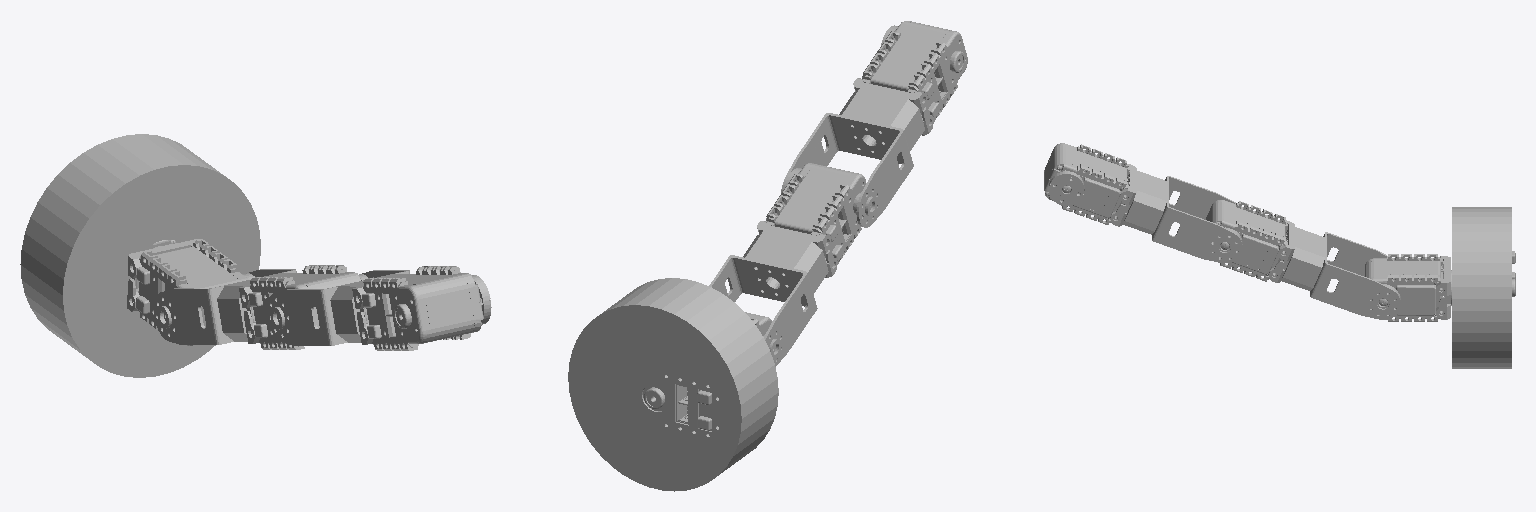
URDF robot description (allsubs1):
<?xml version="1.0" encoding="utf-8"?>
<!-- This URDF was automatically created by SolidWorks to URDF Exporter! Originally created by Stephen Brawner (brawner@gmail.com) 
     Commit Version: 1.6.0-4-g7f85cfe  Build Version: 1.6.7995.38578
     For more information, please see http://wiki.ros.org/sw_urdf_exporter -->
<robot
  name="allsubs1">
  <link
    name="b1">
    <inertial>
      <origin
        xyz="0.69514 -1.2988 0.90674"
        rpy="0 0 0" />
      <mass
        value="0.06306" />
      <inertia
        ixx="1.5289E-05"
        ixy="-3.1071E-07"
        ixz="-2.394E-08"
        iyy="3.2674E-05"
        iyz="-7.0995E-09"
        izz="3.4483E-05" />
    </inertial>
    <visual>
      <origin
        xyz="0 0 0"
        rpy="0 0 0" />
      <geometry>
        <mesh
          filename="package://allsubs1/meshes/b1.STL" />
      </geometry>
      <material
        name="">
        <color
          rgba="0.75294 0.75294 0.75294 1" />
      </material>
    </visual>
    <collision>
      <origin
        xyz="0 0 0"
        rpy="0 0 0" />
      <geometry>
        <mesh
          filename="package://allsubs1/meshes/b1.STL" />
      </geometry>
    </collision>
  </link>
  <link
    name="j2">
    <inertial>
      <origin
        xyz="-2.95779101131544E-05 0.0287515189640373 0.000935763764680964"
        rpy="0 0 0" />
      <mass
        value="0.0459988257481869" />
      <inertia
        ixx="1.19980791991195E-05"
        ixy="-1.01847475696881E-08"
        ixz="1.49858325978155E-09"
        iyy="6.96713161909025E-06"
        iyz="1.90997270709036E-07"
        izz="1.02140084068949E-05" />
    </inertial>
    <visual>
      <origin
        xyz="0 0 0"
        rpy="0 0 0" />
      <geometry>
        <mesh
          filename="package://allsubs1/meshes/j2.STL" />
      </geometry>
      <material
        name="">
        <color
          rgba="0.752941176470588 0.752941176470588 0.752941176470588 1" />
      </material>
    </visual>
    <collision>
      <origin
        xyz="0 0 0"
        rpy="0 0 0" />
      <geometry>
        <mesh
          filename="package://allsubs1/meshes/j2.STL" />
      </geometry>
    </collision>
  </link>
  <joint
    name="joint 2"
    type="revolute">
    <origin
      xyz="0.70369 -1.3168 0.90884"
      rpy="3.1416 -1.5498 0" />
    <parent
      link="b1" />
    <child
      link="j2" />
    <axis
      xyz="0 1 0" />
    <limit
      lower="0"
      upper="5.2"
      effort="0"
      velocity="0" />
  </joint>
  <link
    name="j3">
    <inertial>
      <origin
        xyz="-1.9623370334565E-05 0.0725175862532941 0.000544139226861695"
        rpy="0 0 0" />
      <mass
        value="0.0693327417319746" />
      <inertia
        ixx="2.21022107700978E-05"
        ixy="-1.01848679514028E-08"
        ixz="1.49859442153858E-09"
        iyy="1.43289435191073E-05"
        iyz="1.90997183218559E-07"
        izz="1.53577419697582E-05" />
    </inertial>
    <visual>
      <origin
        xyz="0 0 0"
        rpy="0 0 0" />
      <geometry>
        <mesh
          filename="package://allsubs1/meshes/j3.STL" />
      </geometry>
      <material
        name="">
        <color
          rgba="0.752941176470588 0.752941176470588 0.752941176470588 1" />
      </material>
    </visual>
    <collision>
      <origin
        xyz="0 0 0"
        rpy="0 0 0" />
      <geometry>
        <mesh
          filename="package://allsubs1/meshes/j3.STL" />
      </geometry>
    </collision>
  </link>
  <joint
    name="joint 3"
    type="revolute">
    <origin
      xyz="0 0.04334 0"
      rpy="0 0 -0.37855" />
    <parent
      link="j2" />
    <child
      link="j3" />
    <axis
      xyz="0 0 1" />
    <limit
      lower="0"
      upper="5.2"
      effort="0"
      velocity="0" />
  </joint>
  <link
    name="j4">
    <inertial>
      <origin
        xyz="-1.9623370334787E-05 0.0725175862532941 0.000544139226854923"
        rpy="0 0 0" />
      <mass
        value="0.0693327417319744" />
      <inertia
        ixx="2.21022107700976E-05"
        ixy="-1.01848679514261E-08"
        ixz="1.49859442163816E-09"
        iyy="1.43289435191073E-05"
        iyz="1.90997183218435E-07"
        izz="1.5357741969758E-05" />
    </inertial>
    <visual>
      <origin
        xyz="0 0 0"
        rpy="0 0 0" />
      <geometry>
        <mesh
          filename="package://allsubs1/meshes/j4.STL" />
      </geometry>
      <material
        name="">
        <color
          rgba="0.752941176470588 0.752941176470588 0.752941176470588 1" />
      </material>
    </visual>
    <collision>
      <origin
        xyz="0 0 0"
        rpy="0 0 0" />
      <geometry>
        <mesh
          filename="package://allsubs1/meshes/j4.STL" />
      </geometry>
    </collision>
  </link>
  <joint
    name="joint 4"
    type="revolute">
    <origin
      xyz="0 0.105 0"
      rpy="0 0 0" />
    <parent
      link="j3" />
    <child
      link="j4" />
    <axis
      xyz="0 0 1" />
    <limit
      lower="0"
      upper="5.2"
      effort="0"
      velocity="0" />
  </joint>
  <link
    name="j5">
    <inertial>
      <origin
        xyz="0.000531789431416074 0.0429306608690703 -2.25159690836474E-05"
        rpy="0 0 0" />
      <mass
        value="0.0579314581274067" />
      <inertia
        ixx="9.18901969517939E-06"
        ixy="1.86151039878829E-07"
        ixz="-1.03128517014371E-08"
        iyy="1.58279984382877E-05"
        iyz="1.49860312710147E-09"
        izz="1.77886093534218E-05" />
    </inertial>
    <visual>
      <origin
        xyz="0 0 0"
        rpy="0 0 0" />
      <geometry>
        <mesh
          filename="package://allsubs1/meshes/j5.STL" />
      </geometry>
      <material
        name="">
        <color
          rgba="0.752941176470588 0.752941176470588 0.752941176470588 1" />
      </material>
    </visual>
    <collision>
      <origin
        xyz="0 0 0"
        rpy="0 0 0" />
      <geometry>
        <mesh
          filename="package://allsubs1/meshes/j5.STL" />
      </geometry>
    </collision>
  </link>
  <joint
    name="joint 5"
    type="revolute">
    <origin
      xyz="0 0.105 0"
      rpy="2.763 -1.5708 0" />
    <parent
      link="j4" />
    <child
      link="j5" />
    <axis
      xyz="1 0 0" />
    <limit
      lower="0"
      upper="5.2"
      effort="0"
      velocity="0" />
  </joint>
  <link
    name="end effector">
    <inertial>
      <origin
        xyz="-1.7894124426987E-05 0.00648560912965779 0.0405004504381026"
        rpy="0 0 0" />
      <mass
        value="0.0728944857964254" />
      <inertia
        ixx="1.64241390696243E-05"
        ixy="-1.0312850301322E-08"
        ixz="1.49860281211433E-09"
        iyy="1.19399620908884E-05"
        iyz="2.02586877741791E-07"
        izz="1.79577756916598E-05" />
    </inertial>
    <visual>
      <origin
        xyz="0 0 0"
        rpy="0 0 0" />
      <geometry>
        <mesh
          filename="package://allsubs1/meshes/end effector.STL" />
      </geometry>
      <material
        name="">
        <color
          rgba="0.752941176470588 0.752941176470588 0.752941176470588 1" />
      </material>
    </visual>
    <collision>
      <origin
        xyz="0 0 0"
        rpy="0 0 0" />
      <geometry>
        <mesh
          filename="package://allsubs1/meshes/end effector.STL" />
      </geometry>
    </collision>
  </link>
  <joint
    name="end effector "
    type="fixed">
    <origin
      xyz="0.0135 0.06866 0"
      rpy="-1.5708 0.0030322 0" />
    <parent
      link="j5" />
    <child
      link="end effector" />
    <axis
      xyz="0 0 1" />
  </joint>
</robot>

--- What the picture shows (computed from the rendered views, not written in the file) ---
The picture shows the robot from 3 angles, left to right: view 1: azimuth 30°, elevation 25°; view 2: azimuth 150°, elevation 25°; view 3: azimuth 270°, elevation 25°; orthographic projection.
Model allsubs1 with 6 links and 5 joints (4 revolute, 1 fixed), rooted at b1, posed every joint at zero.
Visible links, largest first — view 1: b1, j4, j3, j2; view 2: b1, j4, j3; view 3: j4, j3, b1, j2.
Boxes of the visible links, bbox=[...] form: b1: bbox=[20, 134, 260, 377]; j4: bbox=[267, 266, 491, 350]; j3: bbox=[154, 265, 367, 349]; j2: bbox=[127, 239, 254, 345]; b1: bbox=[568, 278, 778, 491]; j4: bbox=[781, 21, 967, 227]; j3: bbox=[709, 163, 865, 366]; j4: bbox=[1044, 143, 1242, 262]; j3: bbox=[1206, 200, 1400, 319]; b1: bbox=[1451, 207, 1515, 368]; j2: bbox=[1365, 254, 1450, 321].
Bounding box of the posed robot: 0.1 × 0.2903 × 0.1423 m (x, y, z).
4 mesh visuals loaded from 6 distinct referenced files (4 binary STL); not drawn: 2 (reference not matched to a file when rendering).
